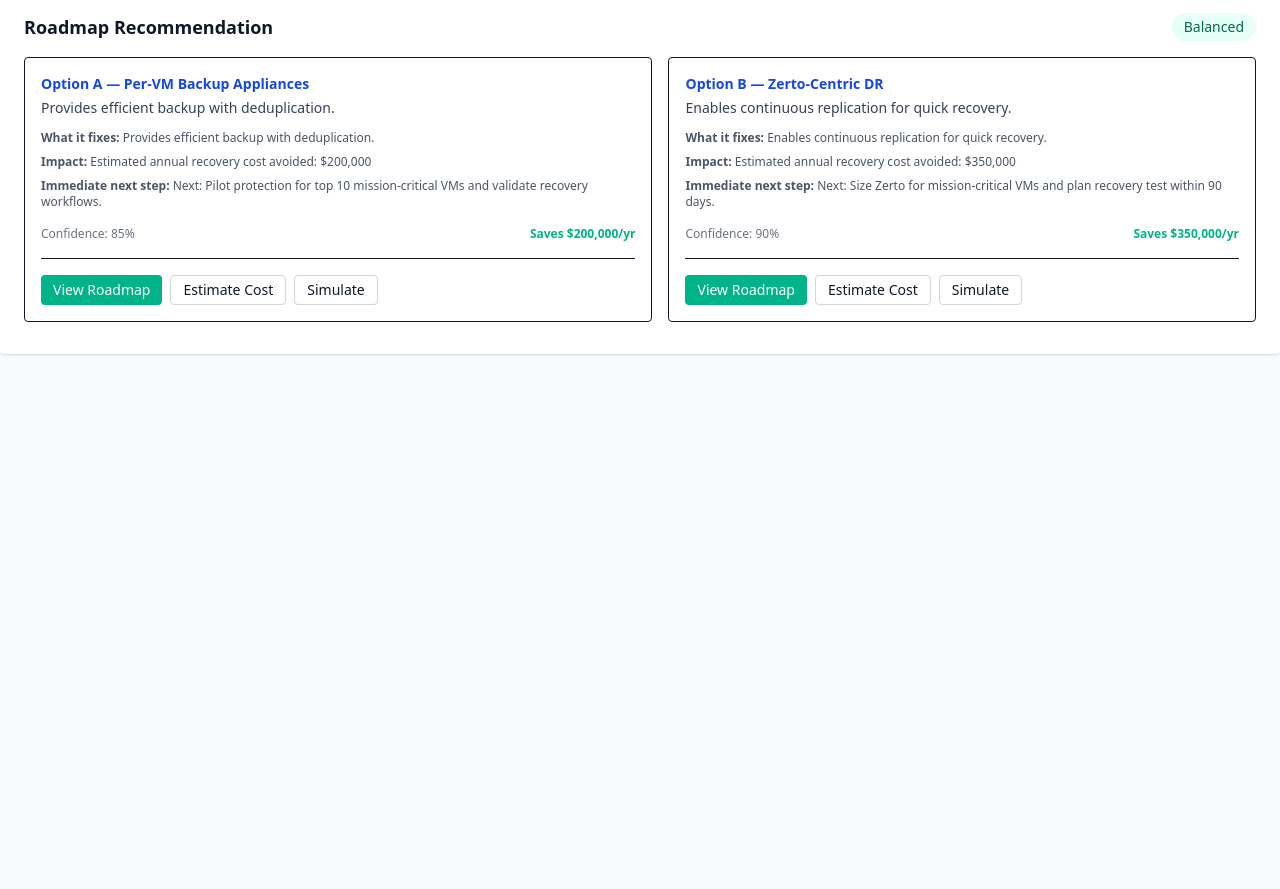
Test case: AdvisorHub Content Rendering › toggles technical details visibility
Click the button with aria-label "View roadmap for" at (102, 290), box [41,275,162,305]
(page scrolled)
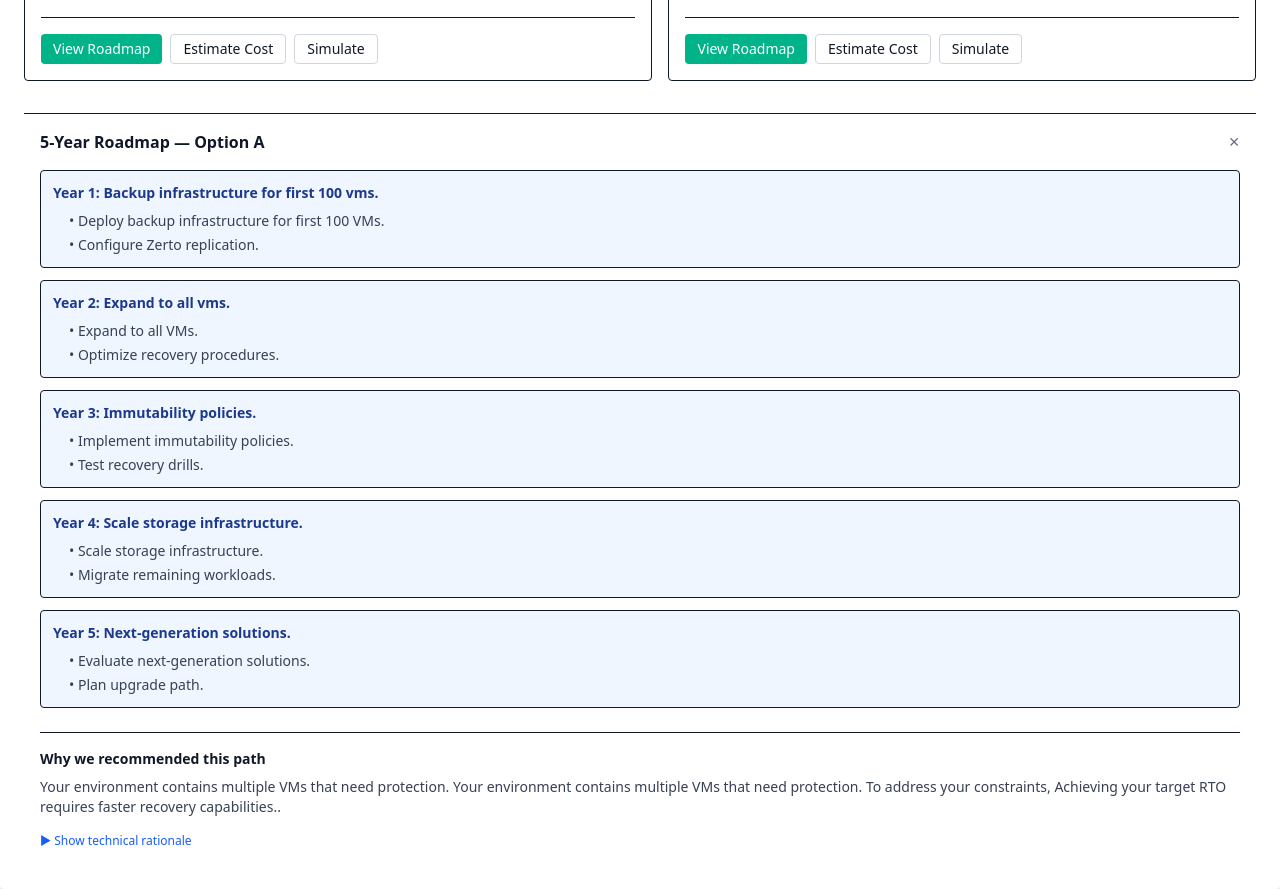
Click the button "▶ Show technical rationale" at (116, 841), box [40,833,192,849]
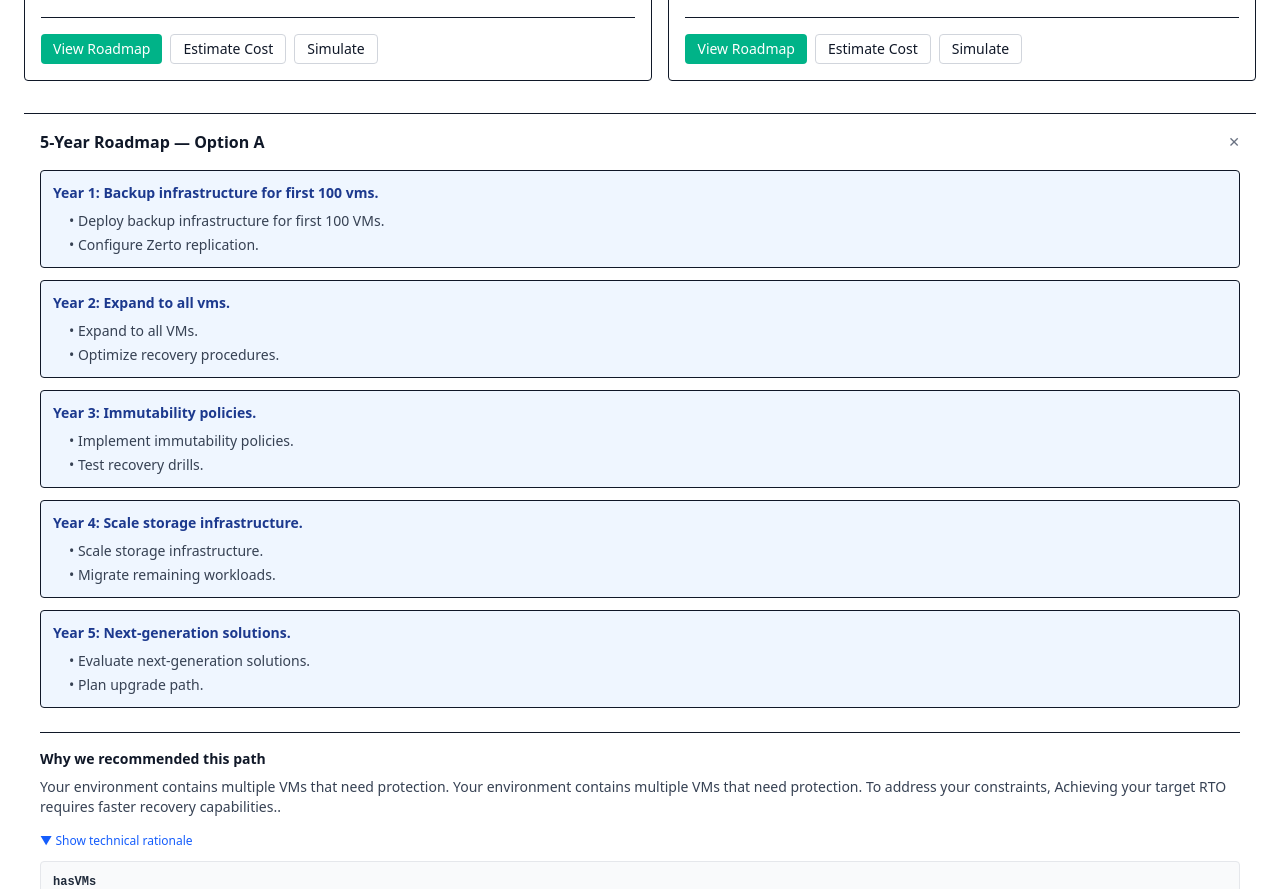
expect the text "hasVMs" is shown: met, box [53,875,96,888]
